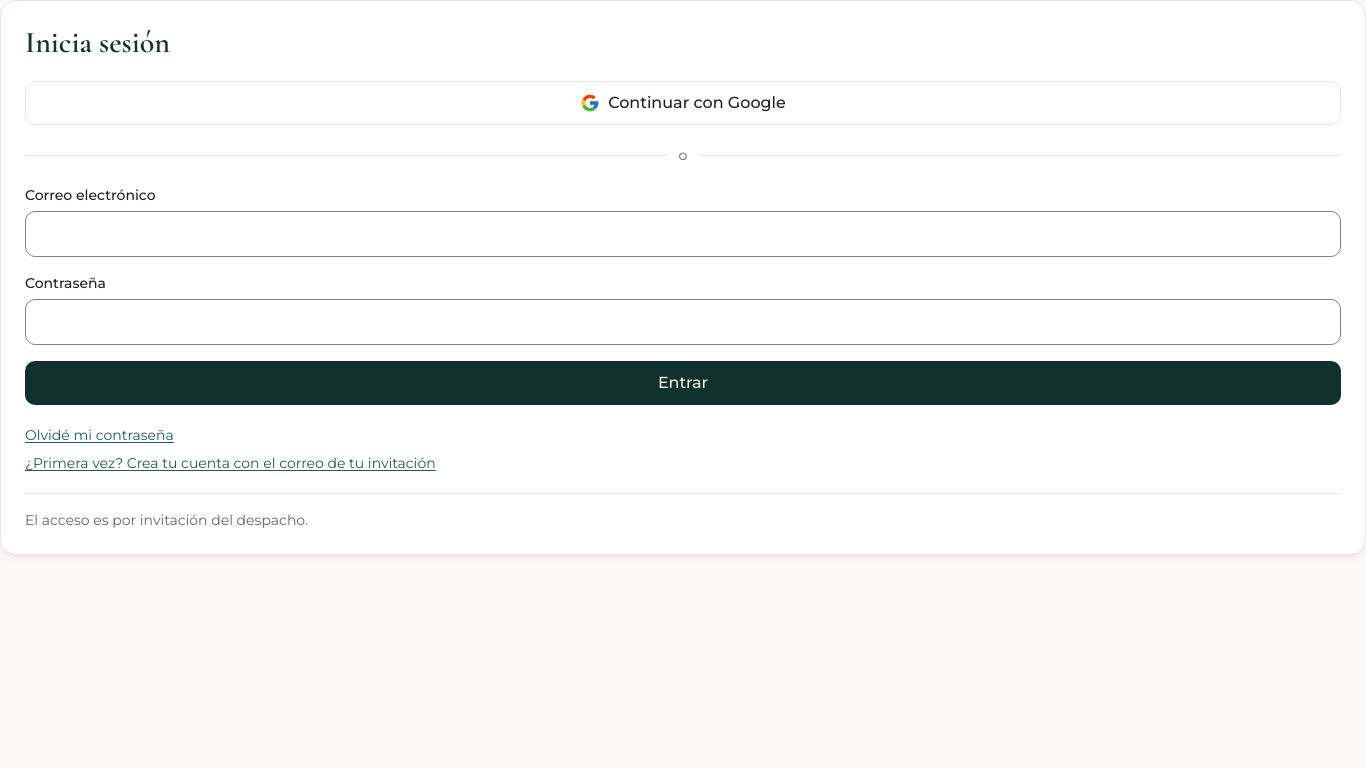
signing in while Google takes its time › elsewhere a Google failure says what happened
This screenshot has width=1366, height=768.
Click the button "Continuar con Google": (683, 103) [25, 81, 1341, 125]
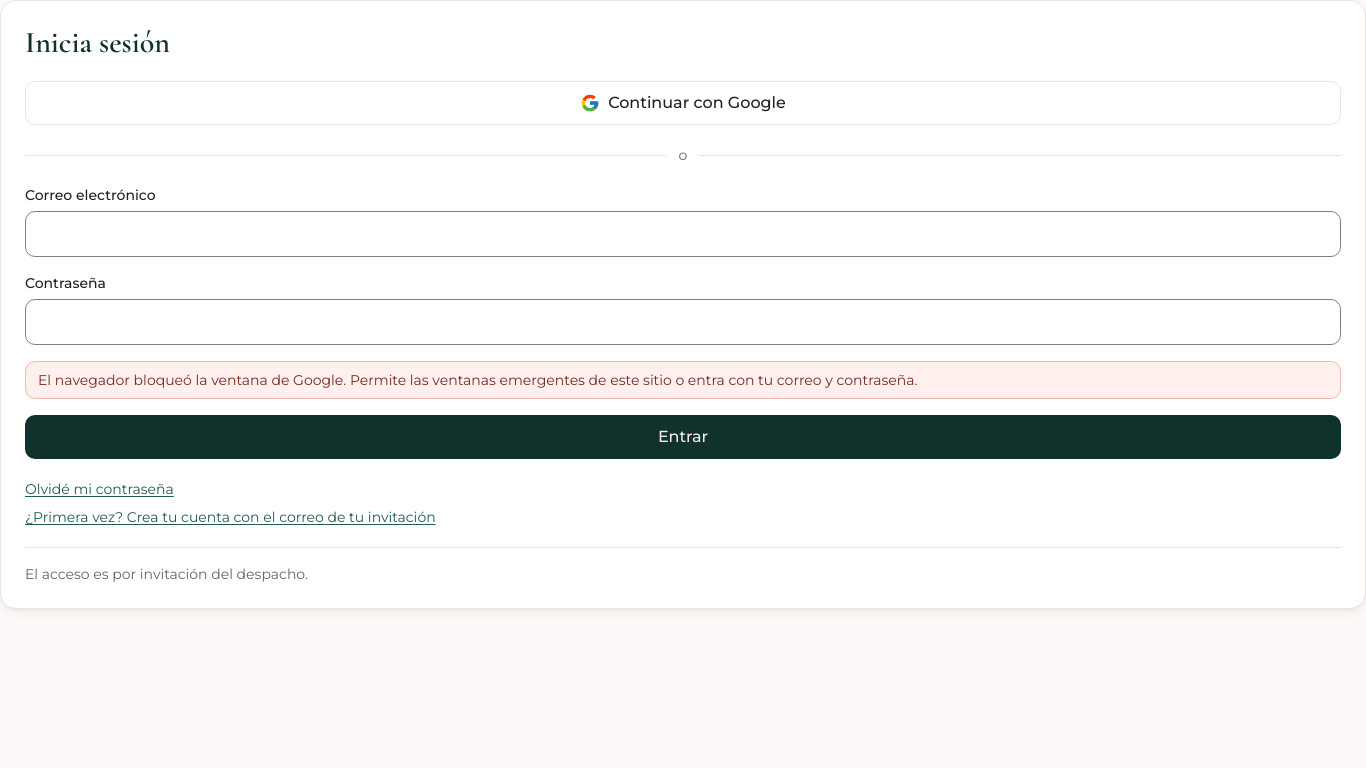
Check: the message shows "El navegador bloqueó la ventana de Google", box [38, 371, 918, 389]
